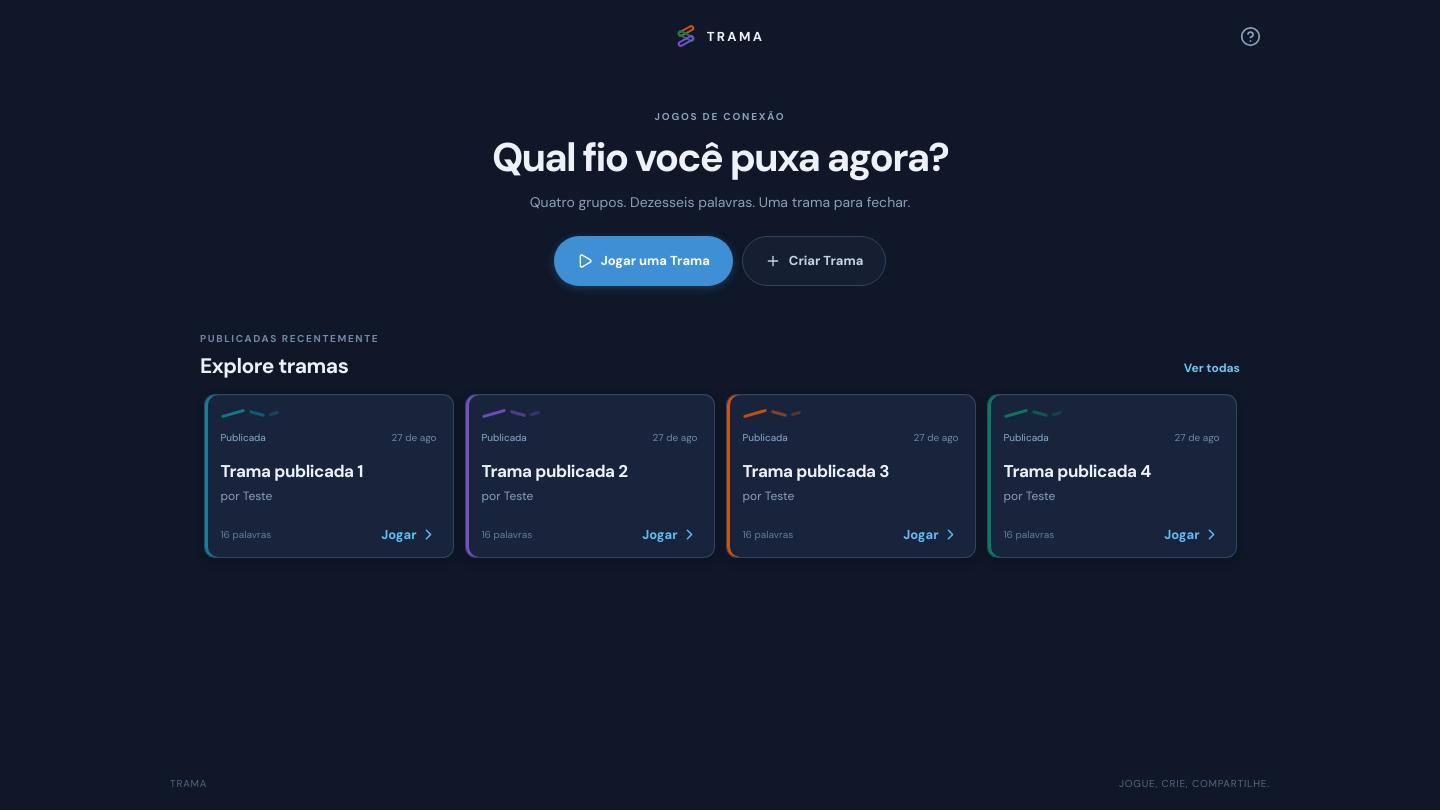
Trama › expande Explore tramas para todos os registros retornados pelo banco
The image size is (1440, 810).
Expected: the number of buttons named "jogar trama publicada" is 4, [204, 394, 454, 558]; [464, 394, 714, 558]; [726, 394, 976, 558]; [986, 394, 1236, 558]
Click the button "Ver todas" at {"x": 1212, "y": 368}, box [1184, 356, 1240, 380]
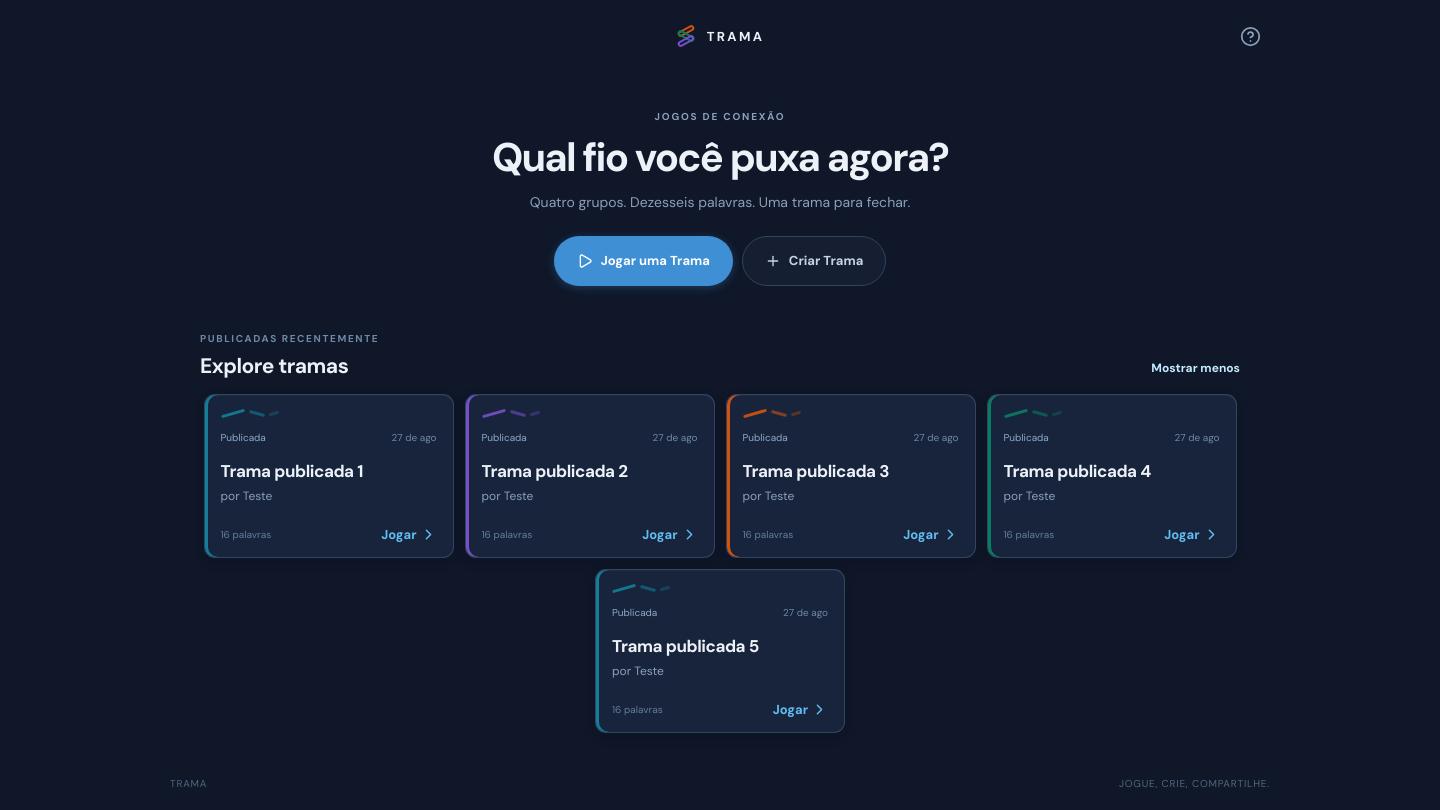
Result: the number of buttons named "jogar trama publicada" is 5 at [204, 394, 454, 558]; [464, 394, 714, 558]; [726, 394, 976, 558]; [986, 394, 1236, 558]; [595, 569, 845, 733]
Result: the button "Mostrar menos" is shown at [1151, 356, 1240, 380]
